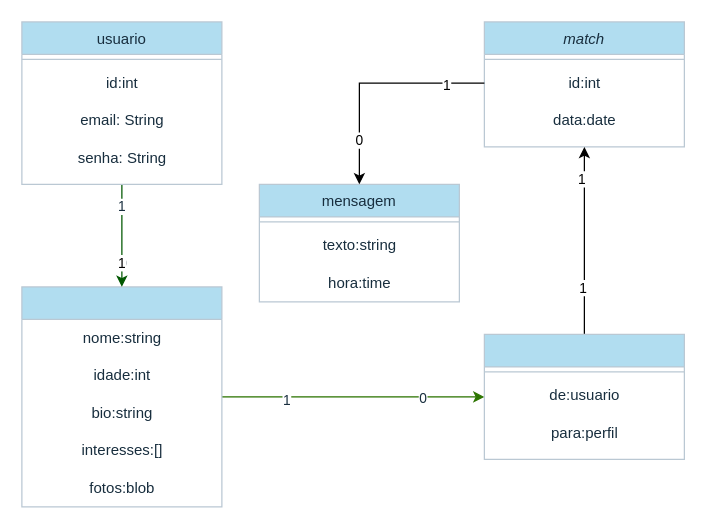
This 706x529 diagram has some shape labels left out. The box of each missing label's shape, as (x1, y1, x2, y2) in pixels:
like: (483, 333, 684, 459)
perfil: (21, 286, 222, 507)
